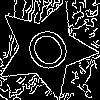O: (21, 24, 80, 84)
